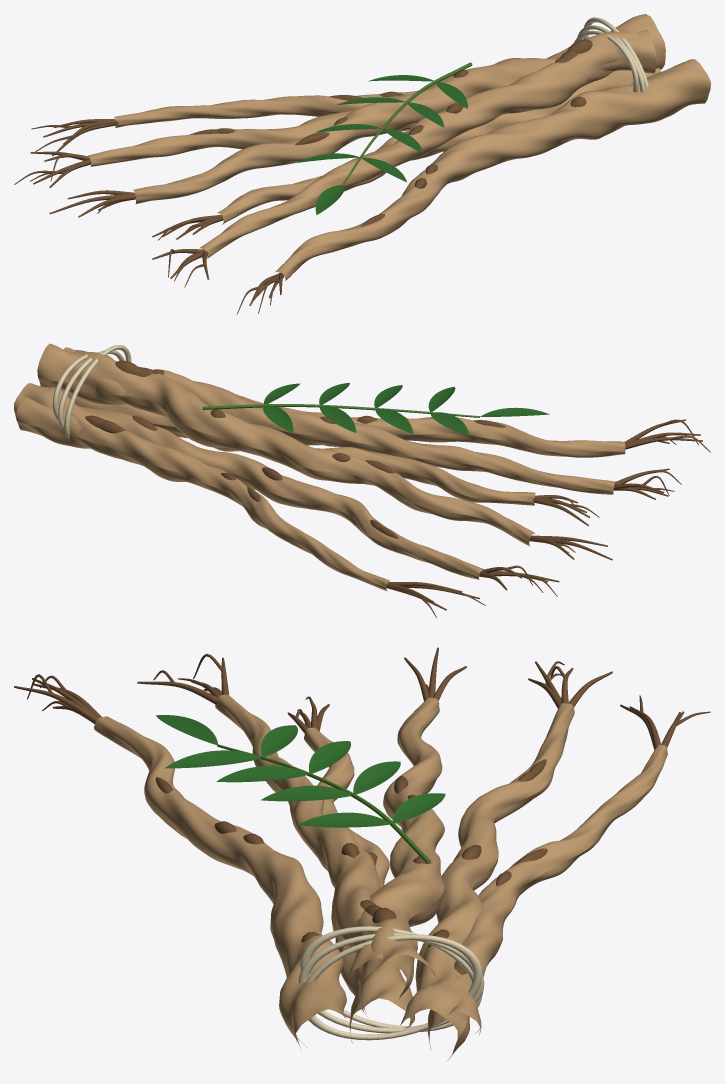
File: pasak_bumi.glb
3 views of the same model, one above another, from view 1: azimuth 30°, elevation 25°; view 2: azimuth 150°, elevation 25°; view 3: azimuth 270°, elevation 25° (orthographic). The views are drawn at different scales.
Parts seen in each view (by area): view 1: root_6, root_3, root_5, root_2, root_1, root_4, leaf_rachis, twine_loop_1, leaflet_terminal; view 2: root_3, root_5, root_1, root_2, root_6, root_4, leaf_rachis, twine_loop_1, twine_loop_2, leaflet_2_R, leaflet_3_R, leaflet_4_R (+2 smaller); view 3: root_6, root_2, root_3, root_1, root_5, root_4, twine_loop_3, twine_loop_2, twine_loop_1, leaflet_4_L, leaflet_1_L, leaflet_3_L (+7 smaller).
Part boxes in pixels (x1,y1,x2,y2): root_6: (274, 59, 710, 280); root_3: (133, 14, 665, 203); root_5: (199, 29, 656, 258); root_2: (88, 110, 415, 166); root_1: (114, 90, 418, 127); root_4: (217, 68, 660, 224); leaf_rachis: (342, 62, 472, 184); twine_loop_1: (574, 30, 638, 92); leaflet_terminal: (315, 185, 344, 214); root_3: (37, 343, 535, 546); root_5: (63, 347, 614, 494); root_1: (16, 397, 389, 591); root_2: (14, 383, 483, 579); root_6: (75, 350, 625, 457); root_4: (67, 393, 535, 505); leaf_rachis: (202, 404, 479, 417); twine_loop_1: (64, 345, 131, 438); twine_loop_2: (58, 350, 124, 428); leaflet_2_R: (320, 406, 356, 432); leaflet_3_R: (375, 408, 413, 434); leaflet_4_R: (430, 412, 469, 435); root_6: (94, 716, 346, 1049); root_2: (400, 703, 574, 1060); root_3: (349, 697, 444, 1018); root_1: (427, 744, 667, 1050); root_5: (215, 694, 417, 998); root_4: (304, 727, 414, 1043); twine_loop_3: (305, 934, 482, 1040); twine_loop_2: (298, 933, 484, 1033); twine_loop_1: (300, 926, 482, 1031); leaflet_4_L: (165, 750, 260, 768); leaflet_1_L: (298, 812, 390, 827); leaflet_3_L: (216, 766, 307, 782).
Size of the model in its own units: 0.508 by 0.0628 by 0.3622.
